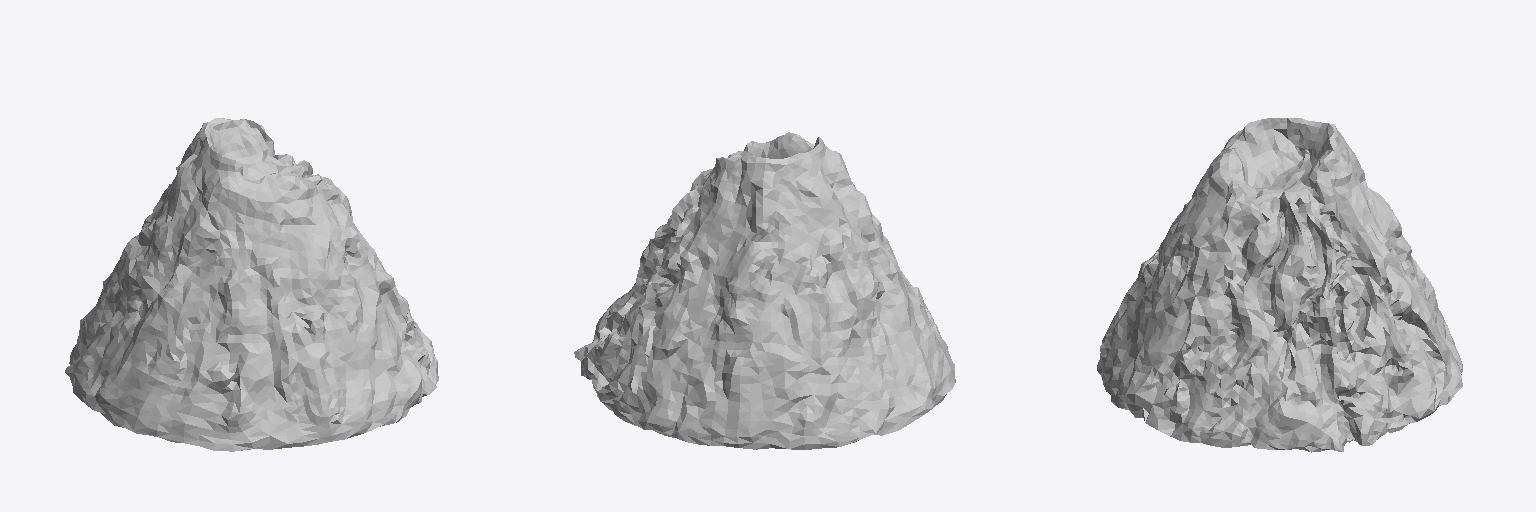
Rendered from VolcanoFinished.OBJ.
3 renders of one model, left to right at view 1: azimuth 30°, elevation 25°; view 2: azimuth 150°, elevation 25°; view 3: azimuth 270°, elevation 25°, orthographic.
Visible parts, largest first — view 1: Group1; view 2: Group1; view 3: Group1.
Part boxes in pixels (left/top/right/bottom): Group1: left=65, top=118, right=438, bottom=451; Group1: left=574, top=132, right=955, bottom=449; Group1: left=1097, top=118, right=1462, bottom=452.
Size of the model in its own units: 8.17 by 5.83 by 7.91.